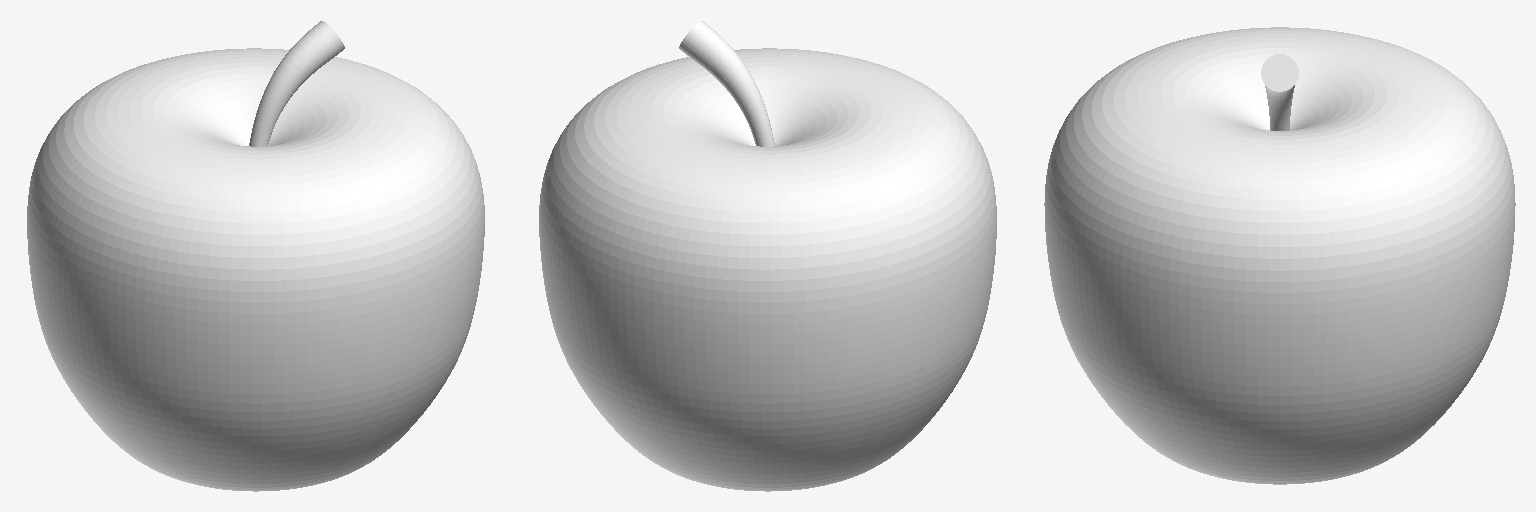
robot.urdf — model.urdf:
<robot name="model.urdf">
  <link name="baseLink">
    <contact>
      <friction_anchor/>
      <lateral_friction value="0.308"/>
      <spinning_friction value="0.001"/>
      <rolling_friction value="0.001"/>
      <contact_cfm value="0.0"/>
      <contact_erp value="1.0"/>
    </contact>
    <inertial>
       <origin rpy="0 0 0" xyz="0.0 0.0 0.0"/>
       <mass value=".0069"/>
       <inertia ixx="1e-3" ixy="0" ixz="0" iyy="1e-3" iyz="0" izz="1e-3"/>
    </inertial>
    <visual>
      <geometry>
        <mesh filename="apple.obj" scale="1 1 1"/>
      </geometry>
      <material name="white">
        <color rgba="1 1 1 1"/>
      </material>
    </visual>
    <collision>
      <geometry>
        <mesh filename="apple.obj" scale="1 1 1"/>
      </geometry>
    </collision>
  </link>
</robot>

--- What the picture shows (computed from the rendered views, not written in the file) ---
3 views of the same robot in one strip: view 1: azimuth 30°, elevation 25°; view 2: azimuth 150°, elevation 25°; view 3: azimuth 270°, elevation 25° (orthographic).
Robot: model.urdf — 1 links, 0 joints (none); root link baseLink; default pose: all joints at 0.
Links seen in each view (by area): view 1: baseLink; view 2: baseLink; view 3: baseLink.
Boxes of the visible links, x1=… form: baseLink: x1=27, y1=21, x2=484, y2=491; baseLink: x1=539, y1=21, x2=996, y2=491; baseLink: x1=1044, y1=27, x2=1515, y2=484.
Bounding box of the posed robot: 24.82 × 24.82 × 24.39 m (x, y, z).
1 mesh visuals loaded from 1 distinct referenced files (1 OBJ).